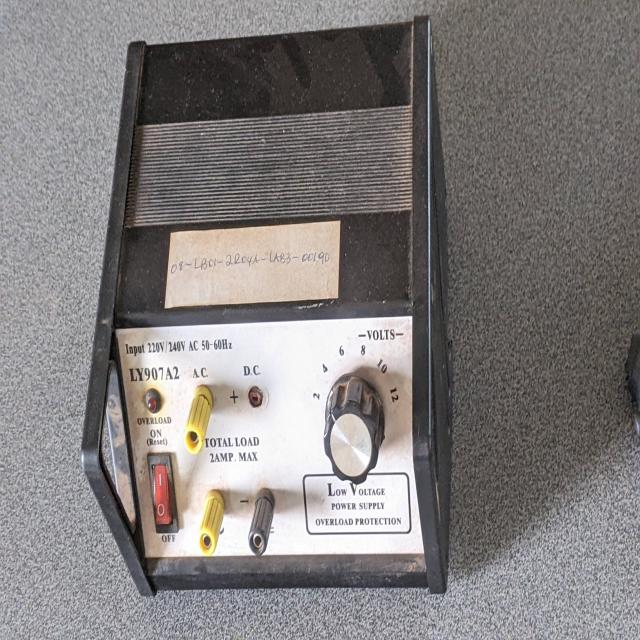AC-AD Regulated Power Supply: (78, 19, 462, 613)
